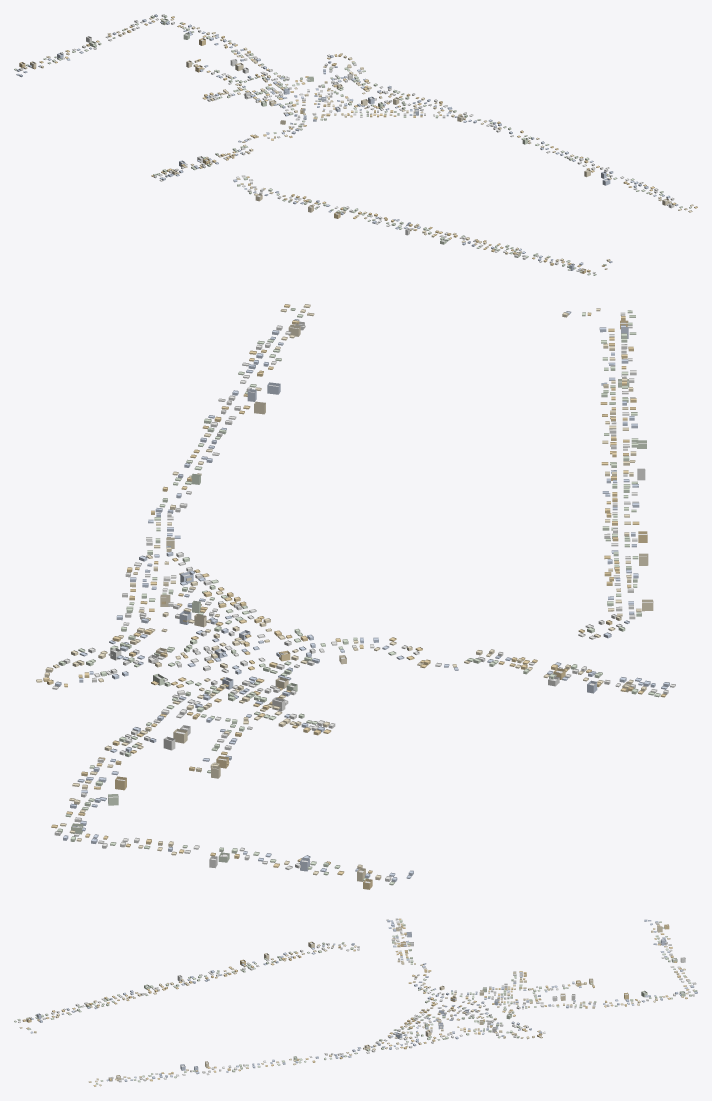
The picture shows the model from 3 angles, top to bottom: view 1: azimuth 30°, elevation 25°; view 2: azimuth 150°, elevation 25°; view 3: azimuth 270°, elevation 25°; orthographic projection. The views are drawn at different scales.
Visible parts, largest first — view 1: house, roof_zinc, apartment; view 2: house, roof_zinc, apartment; view 3: house, roof_zinc, apartment.
Part boxes in pixels (left/top/right/bottom): house: left=14, top=14, right=697, bottom=275; roof_zinc: left=14, top=14, right=696, bottom=274; apartment: left=19, top=18, right=674, bottom=273; house: left=36, top=304, right=675, bottom=885; roof_zinc: left=36, top=304, right=674, bottom=883; apartment: left=71, top=320, right=653, bottom=889; house: left=14, top=918, right=697, bottom=1086; roof_zinc: left=14, top=918, right=697, bottom=1085; apartment: left=26, top=924, right=685, bottom=1081.
Size of the model in its own units: 5.66e+07 by 736323 by 9.77e+07.
